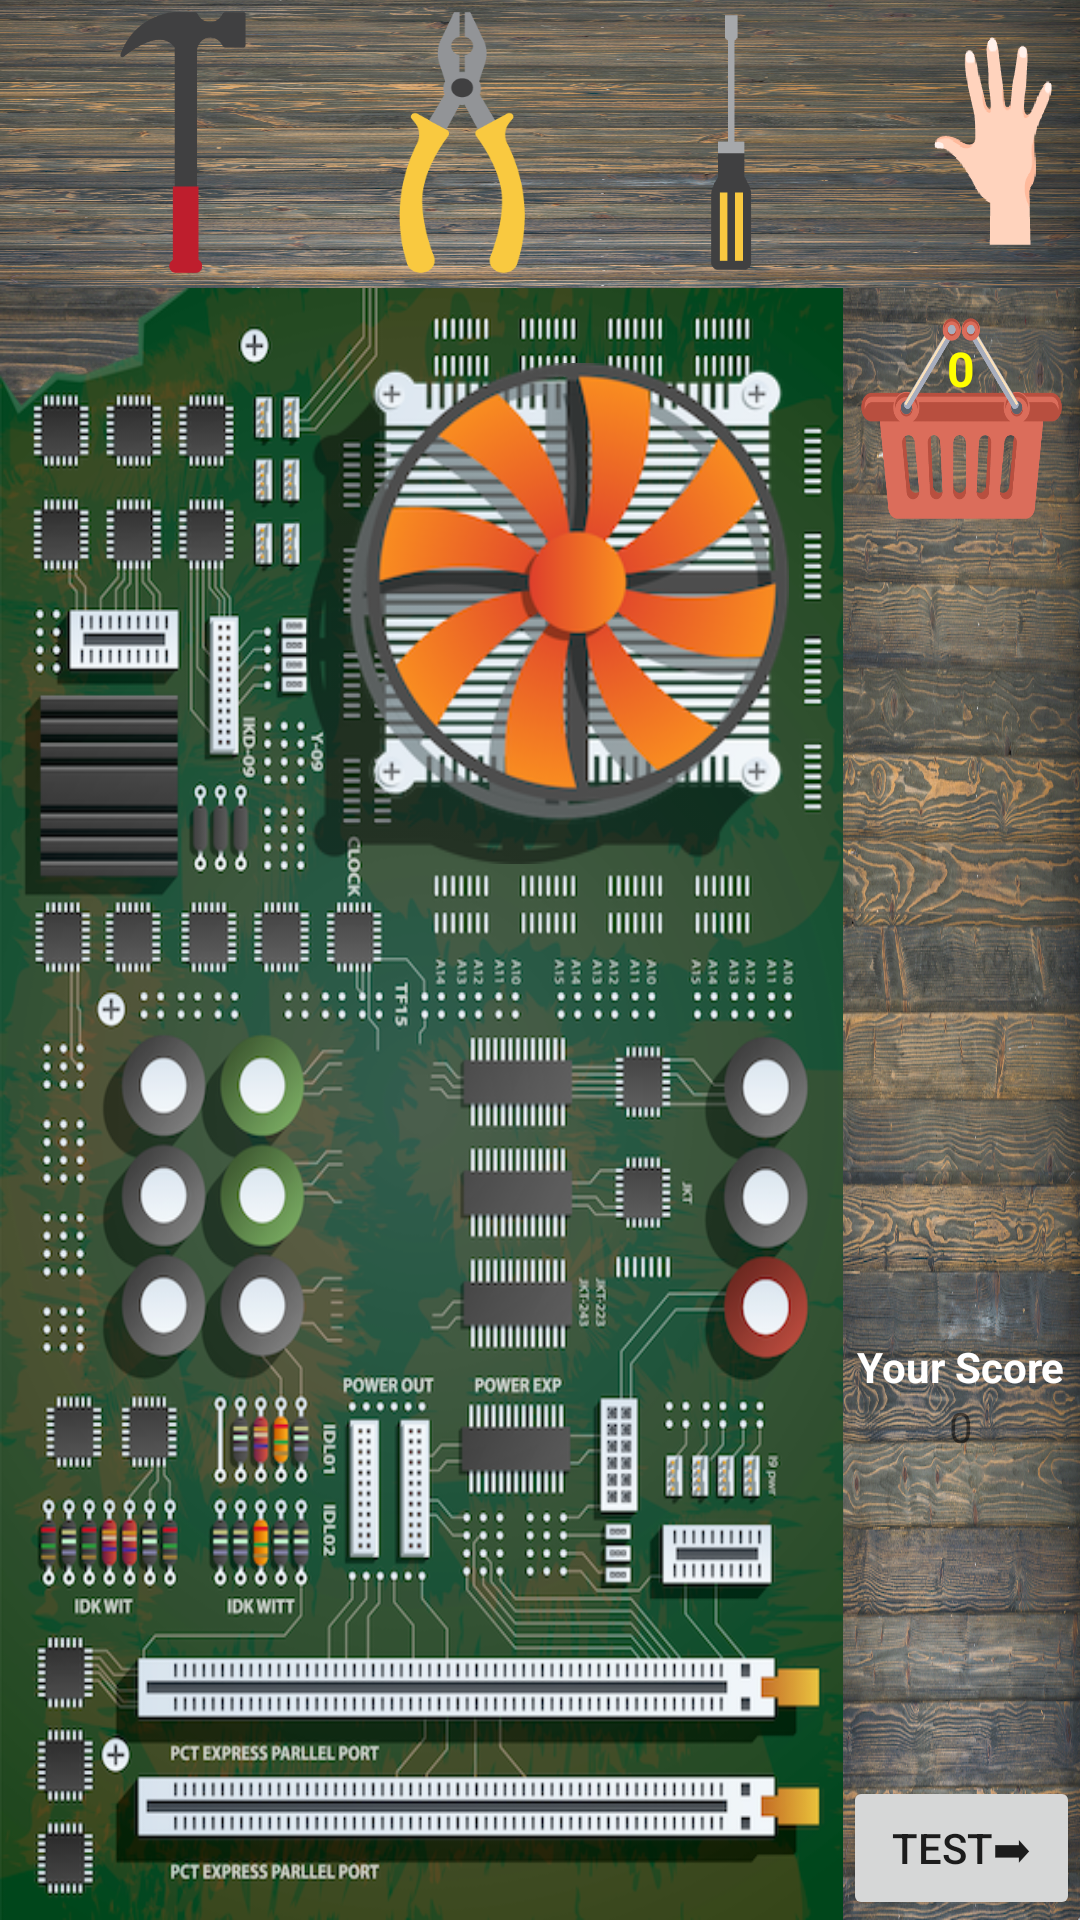

Screen size 1080 × 1920. Icon name, then its center in pixels as (x,y):
basket: (961,418)
hammer check: (183,142)
hand check: (993,142)
plier check: (462,142)
screwdriver check: (729,142)
